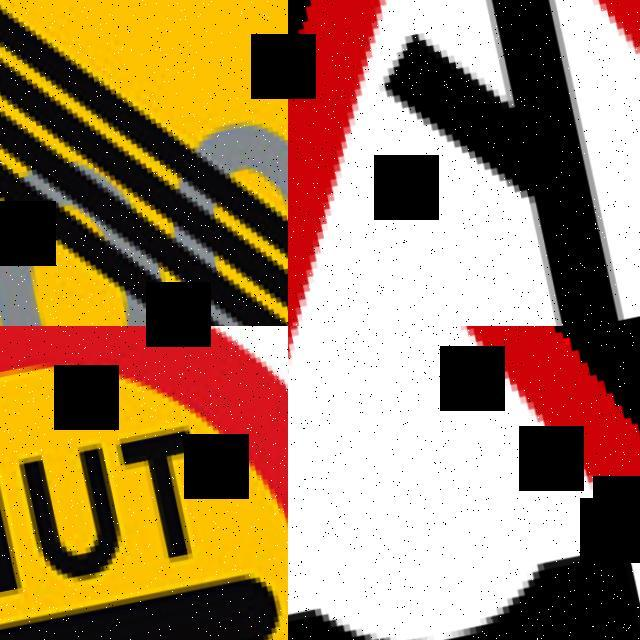117: (0, 326, 288, 640)
Dip: (288, 326, 640, 640)
Oblique side road junction: (288, 0, 640, 326)
end of the speed limit: (0, 0, 288, 326)
